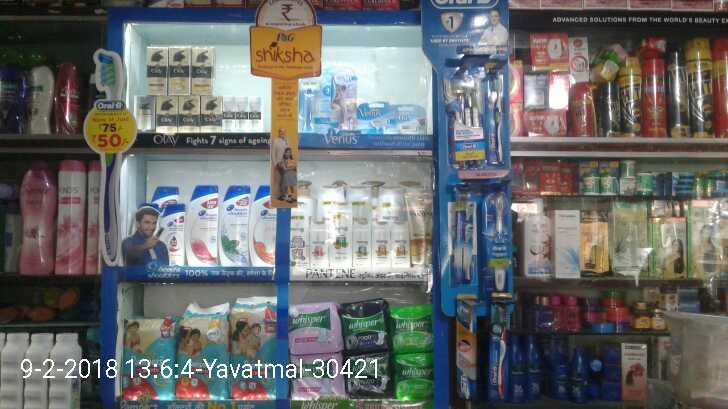venus: (326, 71, 355, 132), (299, 80, 326, 132), (390, 99, 428, 130), (354, 103, 389, 131)
